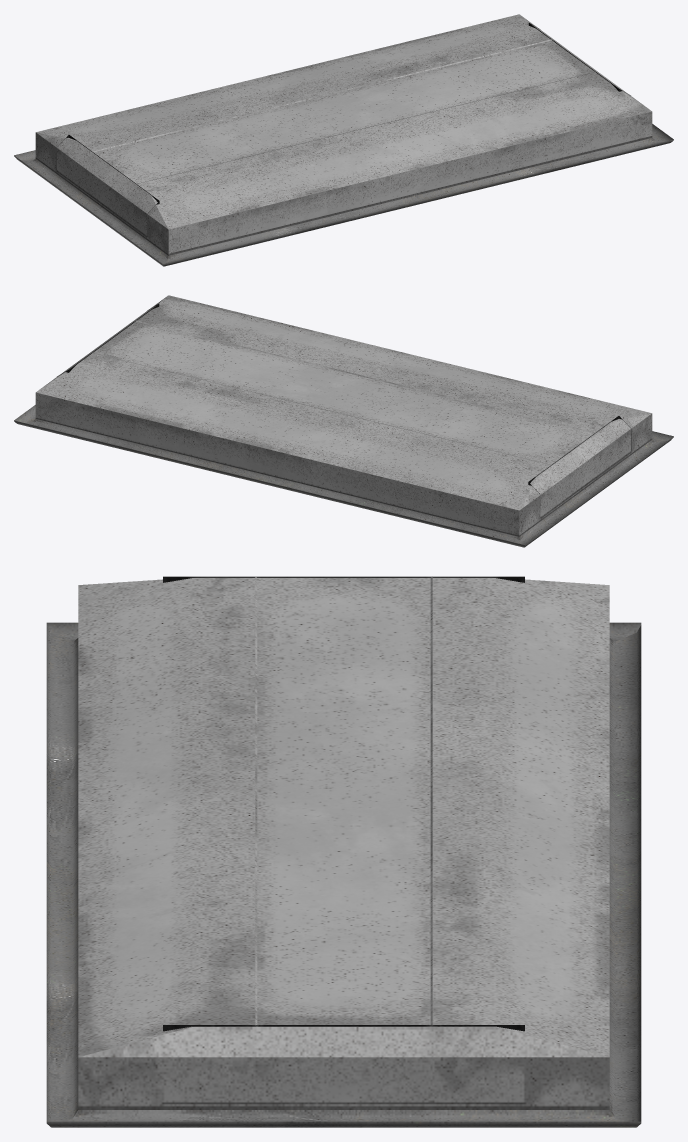
File: LampFluoBuiltinB.fbx
3 views of the same model, one above another, from view 1: azimuth 30°, elevation 25°; view 2: azimuth 150°, elevation 25°; view 3: azimuth 270°, elevation 25° (orthographic). The views are drawn at different scales.
Parts seen in each view (by area): view 1: LampFluoBuiltinB; view 2: LampFluoBuiltinB; view 3: LampFluoBuiltinB.
Boxes of the visible parts, left/top/right/bottom form: LampFluoBuiltinB: left=14, top=14, right=673, bottom=266; LampFluoBuiltinB: left=14, top=295, right=673, bottom=547; LampFluoBuiltinB: left=46, top=576, right=641, bottom=1127.
Bounding box in the file's own units: 135 × 10.02 × 68.12.
